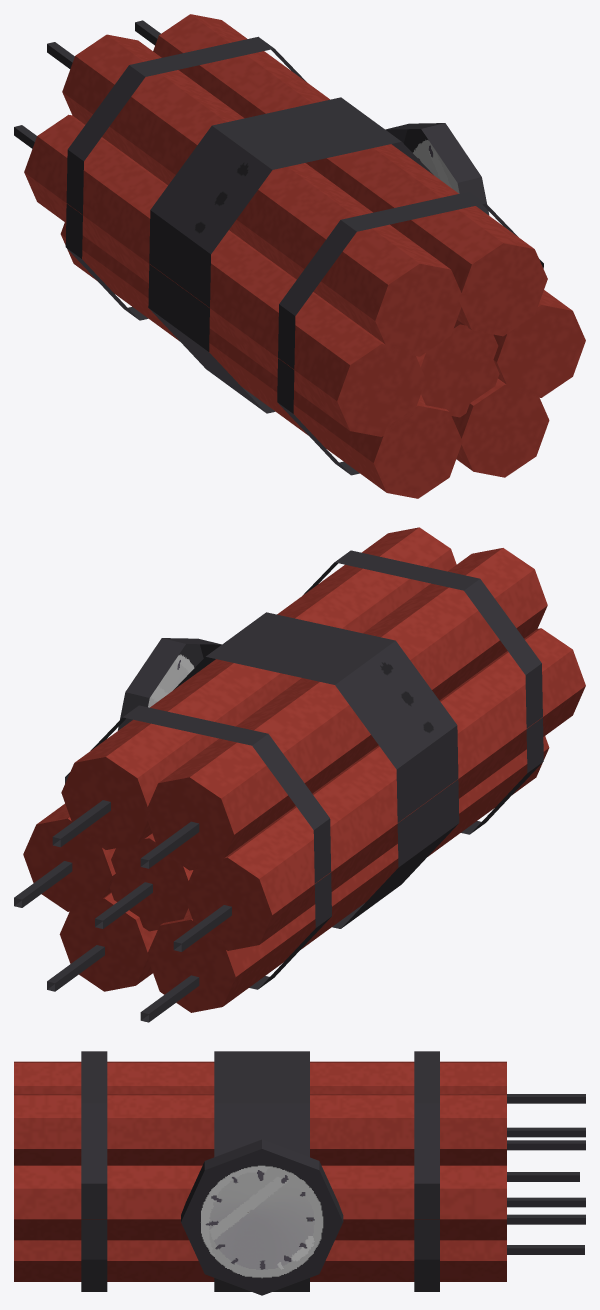
The model's file is time bomb.fbx.
The picture shows the model from 3 angles, top to bottom: view 1: azimuth 30°, elevation 25°; view 2: azimuth 150°, elevation 25°; view 3: azimuth 270°, elevation 25°; orthographic projection. The views are drawn at different scales.
Parts seen in each view (by area): view 1: bomb, watch strap, watch strap.002, watch strap.001, watch face, wicks; view 2: bomb, watch strap, watch strap.001, watch strap.002, wicks, watch face; view 3: bomb, watch face, watch strap, watch strap.002, watch strap.001, wicks.
Part boxes in pixels (x1=…): bomb: x1=24, y1=14, x2=585, y2=498; watch strap: x1=148, y1=97, x2=433, y2=413; watch strap.002: x1=277, y1=191, x2=543, y2=475; watch strap.001: x1=65, y1=36, x2=306, y2=320; watch face: x1=385, y1=123, x2=489, y2=215; wicks: x1=14, y1=20, x2=160, y2=148; bomb: x1=23, y1=527, x2=585, y2=1012; watch strap: x1=173, y1=612, x2=459, y2=928; watch strap.001: x1=65, y1=705, x2=331, y2=989; watch strap.002: x1=302, y1=550, x2=543, y2=834; wicks: x1=14, y1=800, x2=231, y2=1022; watch face: x1=117, y1=638, x2=221, y2=730; bomb: x1=14, y1=1061, x2=506, y2=1281; watch face: x1=181, y1=1139, x2=343, y2=1295; watch strap: x1=214, y1=1051, x2=309, y2=1291; watch strap.002: x1=81, y1=1051, x2=107, y2=1291; watch strap.001: x1=414, y1=1051, x2=439, y2=1291; wicks: x1=507, y1=1094, x2=585, y2=1254.
Bounding box in the file's own units: 168 × 71.21 × 62.65.
